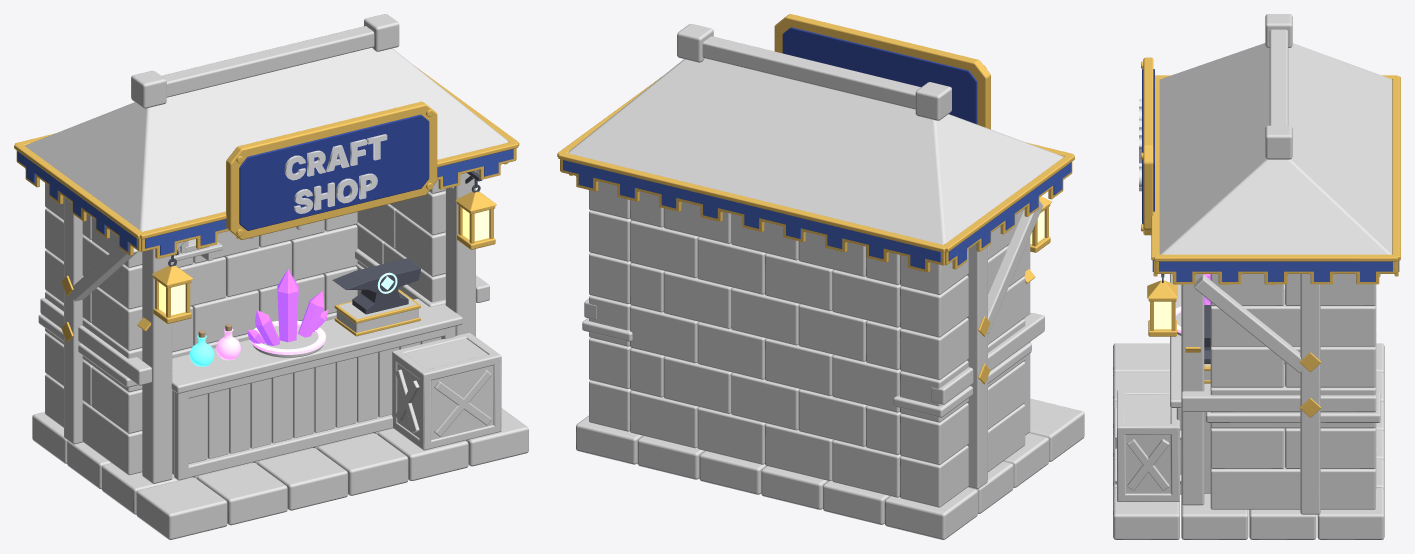
File: Lobby_CraftShop.fbx
The picture shows the model from 3 angles, left to right: view 1: azimuth 30°, elevation 25°; view 2: azimuth 150°, elevation 25°; view 3: azimuth 270°, elevation 25°; orthographic projection. The views are drawn at different scales.
Visible parts, largest first — view 1: Lobby_CraftShop__Marble, Lobby_CraftShop__WoodFrame, Lobby_CraftShop__CanopyBlue, Lobby_CraftShop__Gold, Lobby_CraftShop__WoodPlank, Lobby_CraftShop__SignBlue, Lobby_CraftShop__WoodCrate, Lobby_CraftShop__CanopyBlueEdge, Lobby_CraftShop__WhiteEmblem, Lobby_CraftShop__Iron, Lobby_CraftShop__CrystalPurple, Lobby_CraftShop__MarbleShade (+2 smaller); view 2: Lobby_CraftShop__Marble, Lobby_CraftShop__CanopyBlue, Lobby_CraftShop__WoodFrame, Lobby_CraftShop__Gold, Lobby_CraftShop__CanopyBlueEdge, Lobby_CraftShop__SignBlue, Lobby_CraftShop__MarbleShade; view 3: Lobby_CraftShop__CanopyBlue, Lobby_CraftShop__Marble, Lobby_CraftShop__WoodFrame, Lobby_CraftShop__Gold, Lobby_CraftShop__CanopyBlueEdge, Lobby_CraftShop__WoodCrate, Lobby_CraftShop__MarbleShade, Lobby_CraftShop__SignBlue, Lobby_CraftShop__LanternGlow, Lobby_CraftShop__WoodPlank, Lobby_CraftShop__Iron.
Boxes of the visible parts, x1,y1,x2,y2 form: Lobby_CraftShop__Marble: (32,179,528,539); Lobby_CraftShop__WoodFrame: (40,14,501,483); Lobby_CraftShop__CanopyBlue: (25,47,508,231); Lobby_CraftShop__Gold: (14,65,519,341); Lobby_CraftShop__WoodPlank: (172,337,441,474); Lobby_CraftShop__SignBlue: (239,114,429,230); Lobby_CraftShop__WoodCrate: (336,293,493,439); Lobby_CraftShop__CanopyBlueEdge: (17,149,513,255); Lobby_CraftShop__WhiteEmblem: (284,134,387,213); Lobby_CraftShop__Iron: (168,171,481,314); Lobby_CraftShop__CrystalPurple: (247,269,328,345); Lobby_CraftShop__MarbleShade: (38,248,445,387); Lobby_CraftShop__Marble: (576,181,1084,539); Lobby_CraftShop__CanopyBlue: (568,58,1063,244); Lobby_CraftShop__WoodFrame: (584,24,1044,488); Lobby_CraftShop__Gold: (557,14,1074,384); Lobby_CraftShop__CanopyBlueEdge: (563,160,1071,269); Lobby_CraftShop__SignBlue: (782,27,977,124); Lobby_CraftShop__MarbleShade: (582,318,1031,417); Lobby_CraftShop__CanopyBlue: (1160,43,1392,254); Lobby_CraftShop__Marble: (1113,274,1384,539); Lobby_CraftShop__WoodFrame: (1114,14,1376,514); Lobby_CraftShop__Gold: (1141,57,1400,417); Lobby_CraftShop__CanopyBlueEdge: (1152,260,1399,281); Lobby_CraftShop__WoodCrate: (1126,364,1210,493); Lobby_CraftShop__MarbleShade: (1175,274,1380,422); Lobby_CraftShop__SignBlue: (1142,69,1154,223); Lobby_CraftShop__LanternGlow: (1154,301,1171,329); Lobby_CraftShop__WoodPlank: (1204,412,1210,493); Lobby_CraftShop__Iron: (1161,274,1210,363).
Bounding box in the file's own units: 15.1 × 14.63 × 10.03.
